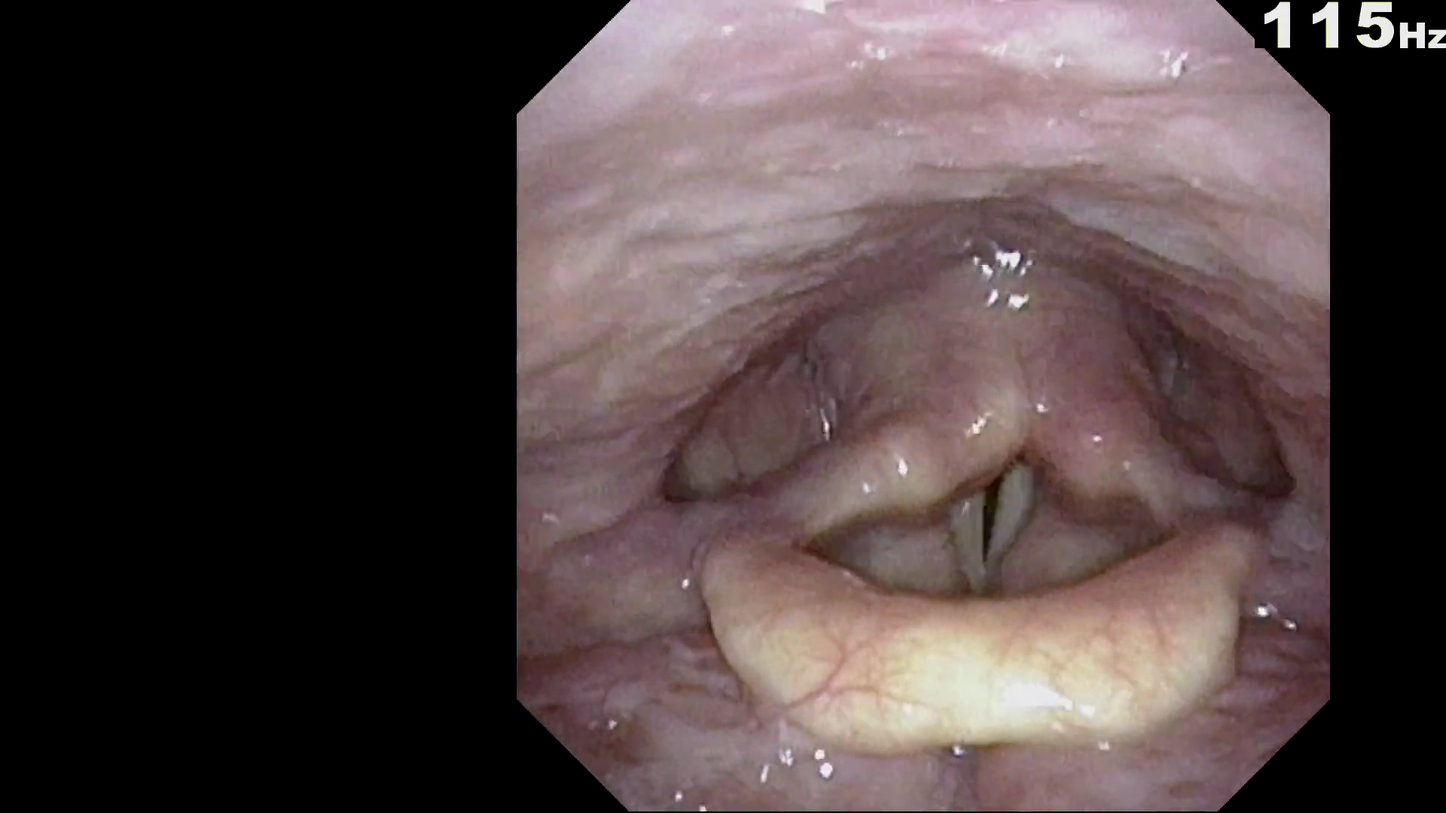epiglottis: (683, 534, 1263, 740)
trachea: (936, 446, 1049, 574)
